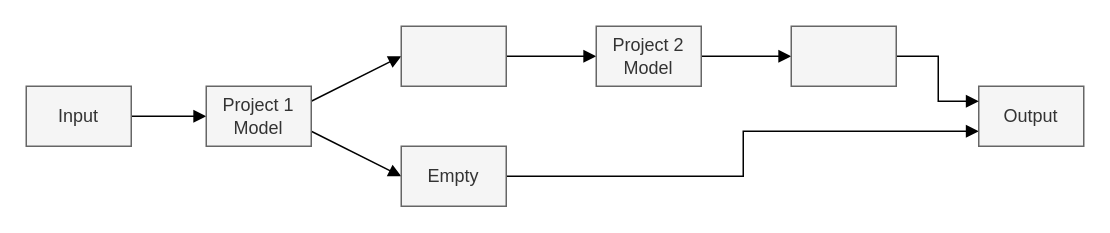
This 1110x233 diagram has some shape labels left out. Each missing label, with the box of its shape:
Not Empty: (400, 25, 506, 86)
Species: (790, 25, 896, 86)
